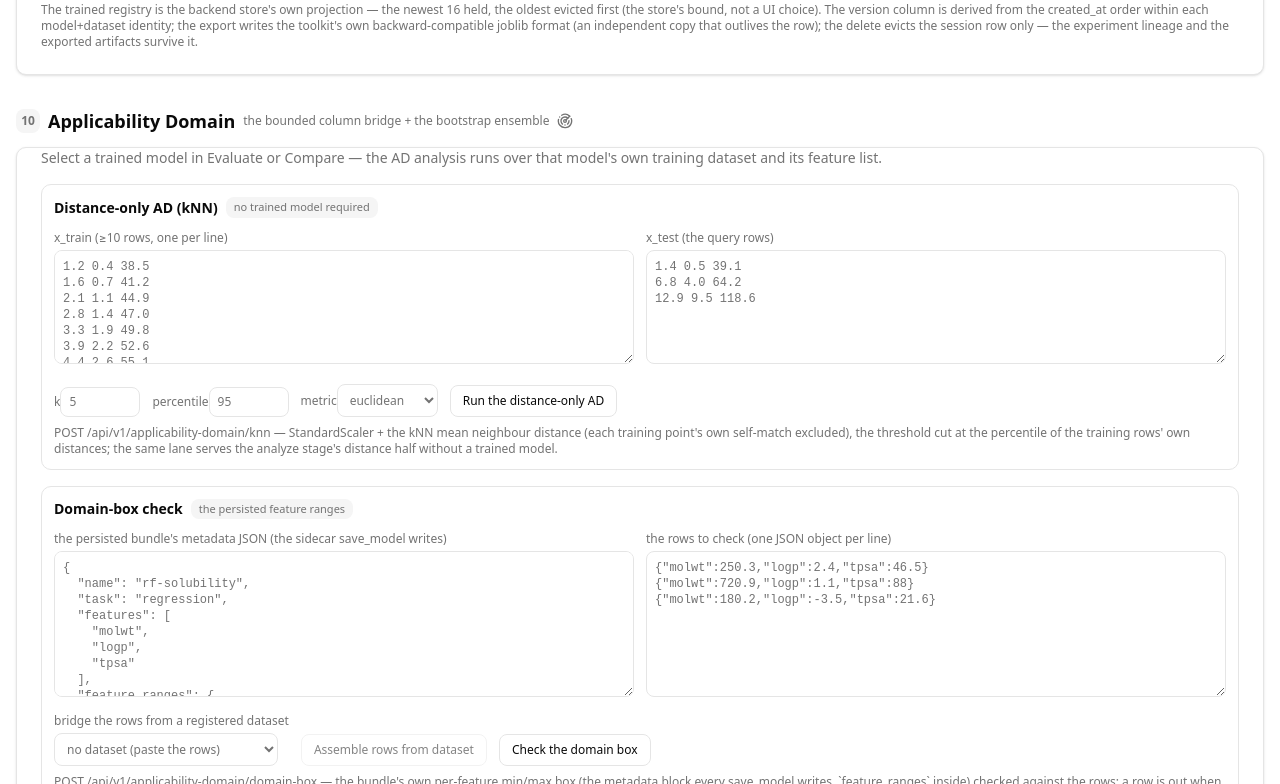
MLPage stage 10 — the ML-2 sub-lanes (the distance-only kNN + the domain-box check) › surfaces the backend's own 422 verbatim — never swallowed
This screenshot has width=1280, height=784.
(page scrolled)
What coordinates should you click on to do the following:
click the button "Run the distance-only AD"
I would click on:
 (534, 401)
Its box is [450,385,617,417].
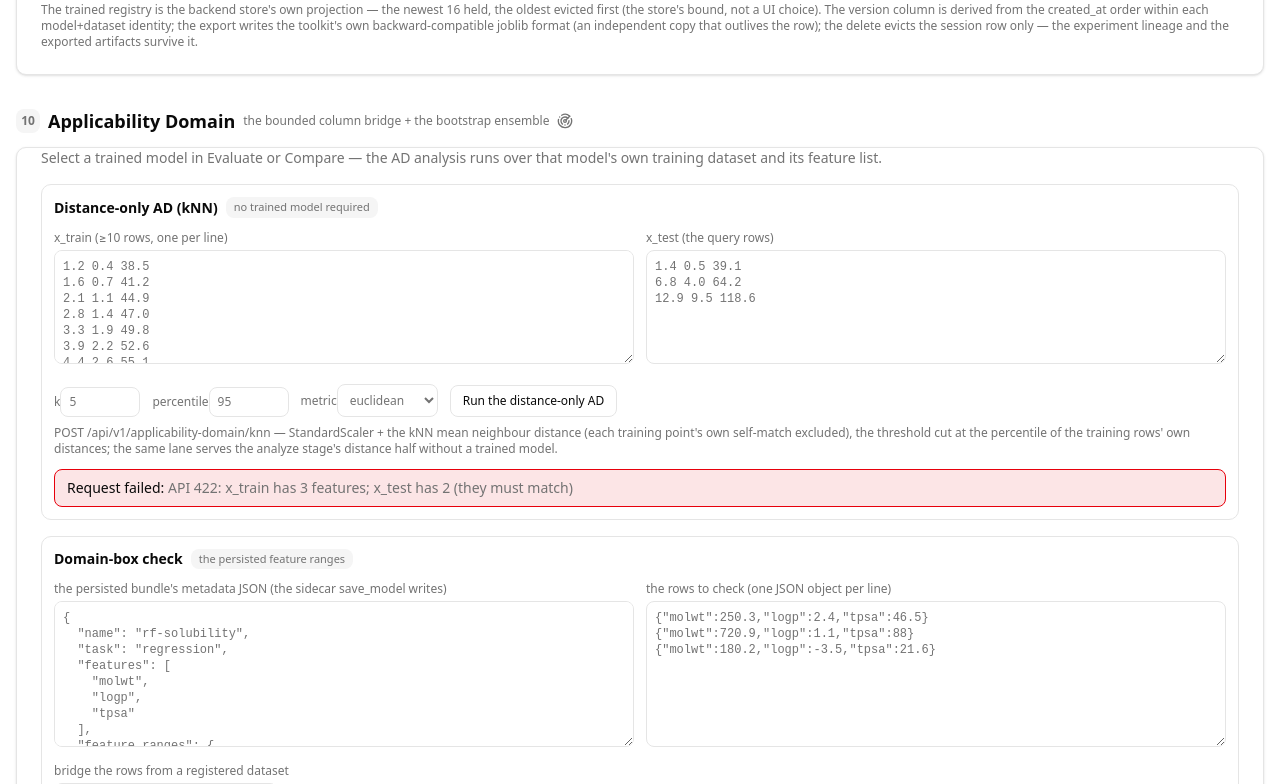
Now the text "API 422: x_train has 3 features; x_test has 2 (they must match)" is shown, box [168,478,573,497]
